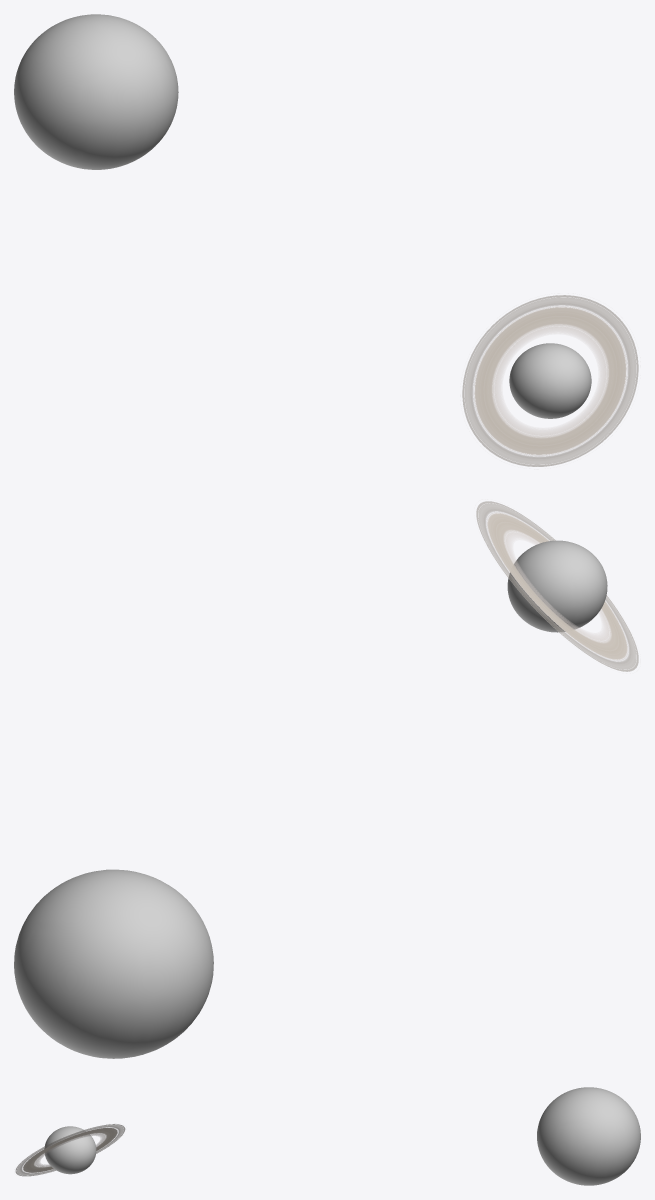
The model's file is Planet.gltf.
3 renders of one model, top to bottom at view 1: azimuth 30°, elevation 25°; view 2: azimuth 150°, elevation 25°; view 3: azimuth 270°, elevation 25°, orthographic. The views are drawn at different scales.
Parts seen in each view (by area): view 1: Jupiter, RingsBottom, Saturn.001; view 2: Jupiter, RingsBottom, Saturn.001; view 3: Jupiter, Saturn.001, RingsTop.
Boxes of the visible parts, x1,y1,x2,y2 form: Jupiter: (14,14,178,169); RingsBottom: (462,295,638,466); Saturn.001: (509,343,591,418); Jupiter: (14,869,213,1058); RingsBottom: (476,501,638,671); Saturn.001: (507,540,607,632); Jupiter: (537,1087,640,1185); Saturn.001: (44,1126,96,1174); RingsTop: (15,1124,125,1176).
Size of the model in its own units: 7.69 by 5.61 by 36.12.
